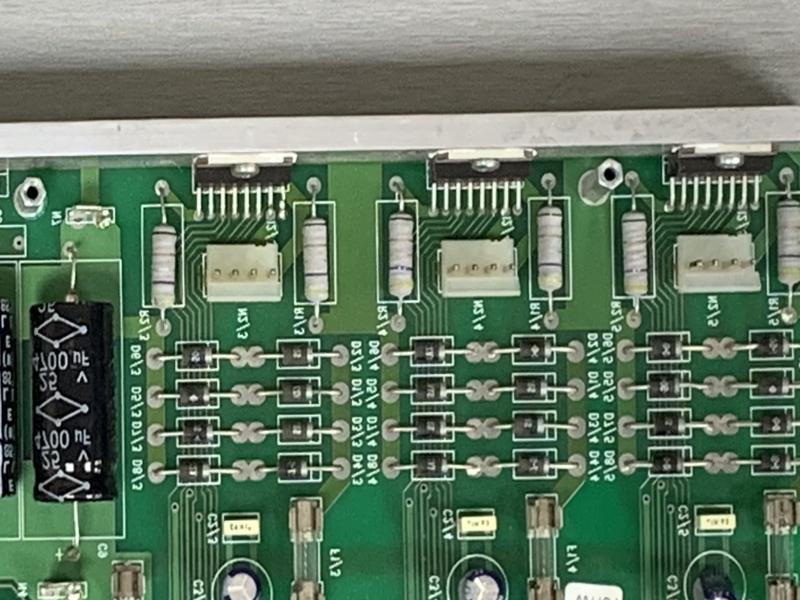Capacitor: (25, 282, 116, 517), (454, 566, 509, 600), (692, 563, 739, 600), (216, 567, 265, 600)
Diode: (753, 410, 796, 435), (412, 376, 451, 403), (752, 372, 794, 396), (412, 339, 451, 364), (178, 381, 214, 408), (177, 421, 218, 444), (513, 453, 555, 475), (649, 451, 689, 474), (413, 415, 451, 439), (412, 454, 451, 477), (515, 337, 554, 360), (513, 375, 552, 398), (279, 418, 319, 440), (751, 333, 791, 355), (754, 449, 794, 471), (279, 342, 317, 365), (649, 413, 687, 436), (280, 380, 319, 402), (649, 336, 686, 359), (179, 459, 217, 481), (278, 456, 313, 479), (649, 373, 684, 396), (514, 413, 548, 436), (177, 344, 216, 364)
Resistor: (145, 211, 179, 316), (299, 208, 333, 309), (617, 201, 651, 301), (382, 206, 415, 304), (534, 201, 566, 298)
